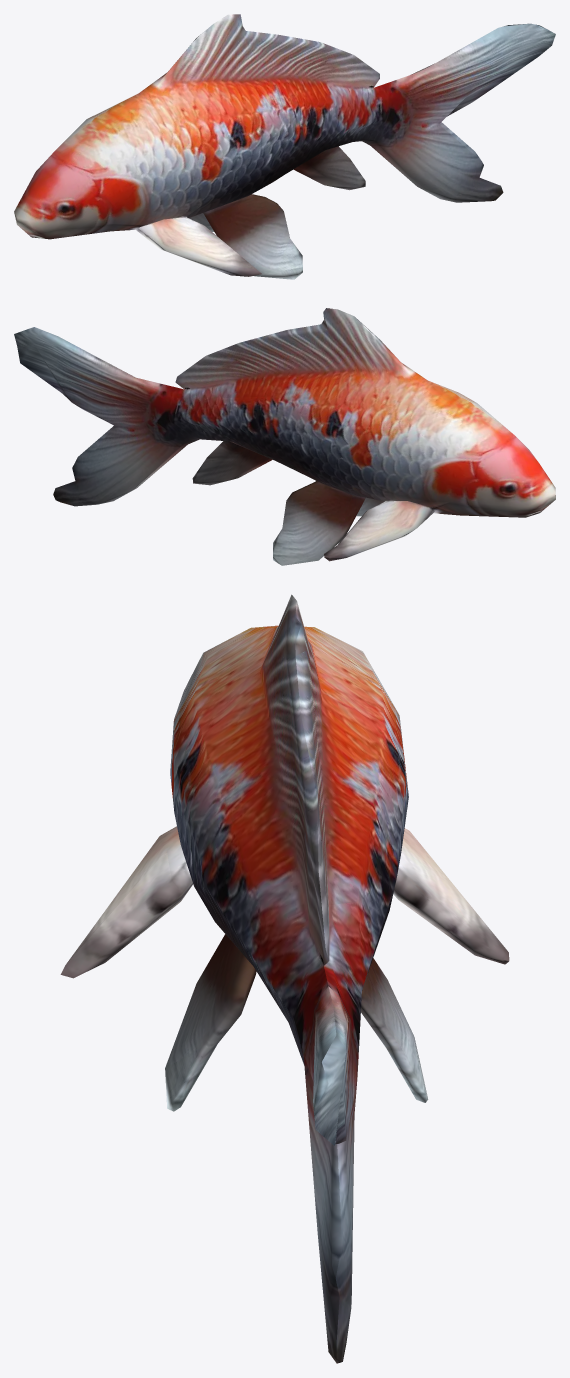
Rendered from pezKoi.glb.
3 views of the same model, one above another, from view 1: azimuth 30°, elevation 25°; view 2: azimuth 150°, elevation 25°; view 3: azimuth 270°, elevation 25° (orthographic). The views are drawn at different scales.
Size of the model in its own units: 6.39 by 2.89 by 2.34.
Materials: 1 (1 with a texture image).
